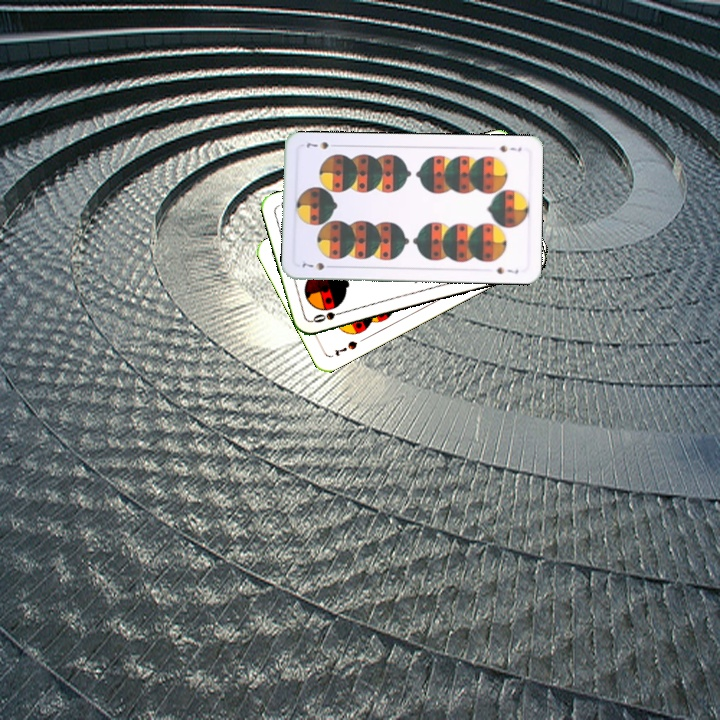S7: (296, 257, 337, 273), (331, 337, 360, 359), (496, 142, 524, 155)
SO: (308, 307, 348, 325)
